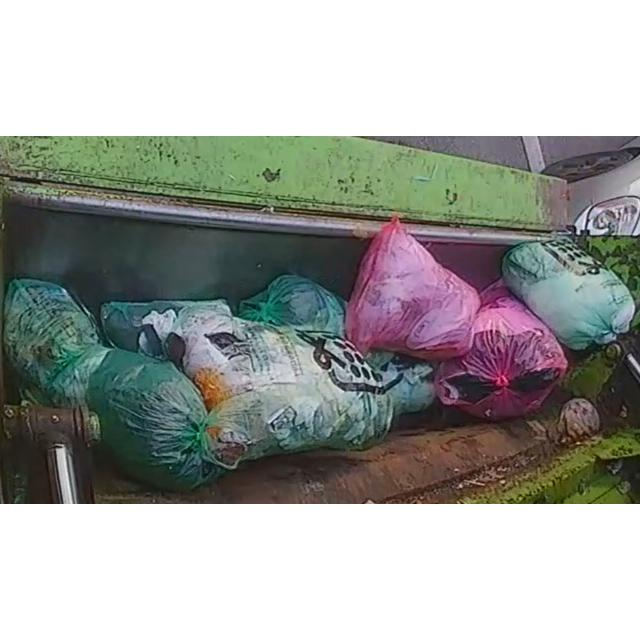general_trashbag: (5, 280, 224, 489), (142, 306, 402, 468), (502, 237, 635, 350), (4, 280, 110, 408), (100, 300, 231, 370), (238, 275, 345, 337), (365, 352, 435, 419)
other_trashbag: (346, 218, 480, 360), (435, 284, 568, 421)
